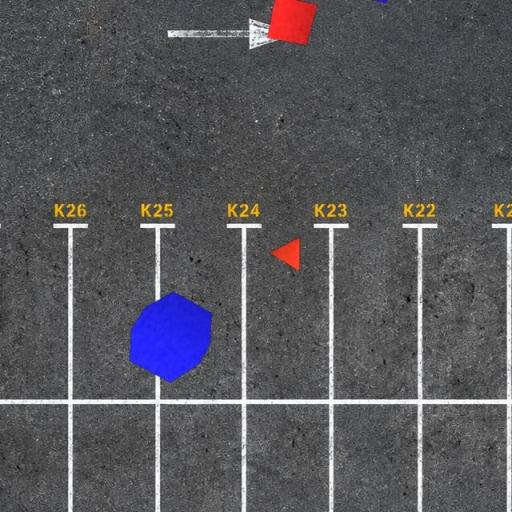RED_SQUARE: (266, 0, 318, 46)
